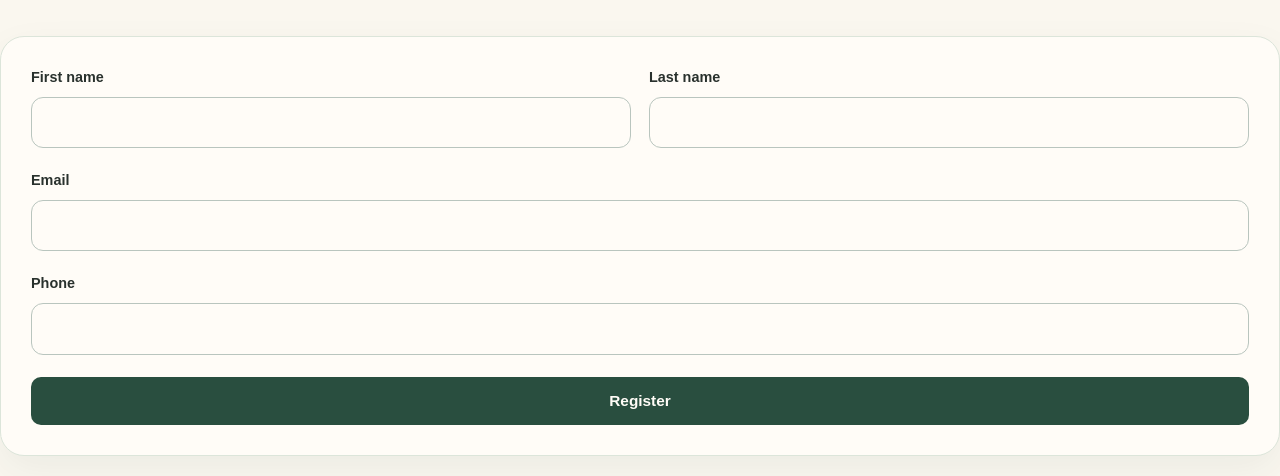
Test: PublicRegistrationForm › replaces the form with a terminal confirmation after registration
This screenshot has width=1280, height=476.
Type "Avery" into the field labelled "First name". click: [331, 122]
box: [31,97,631,148]
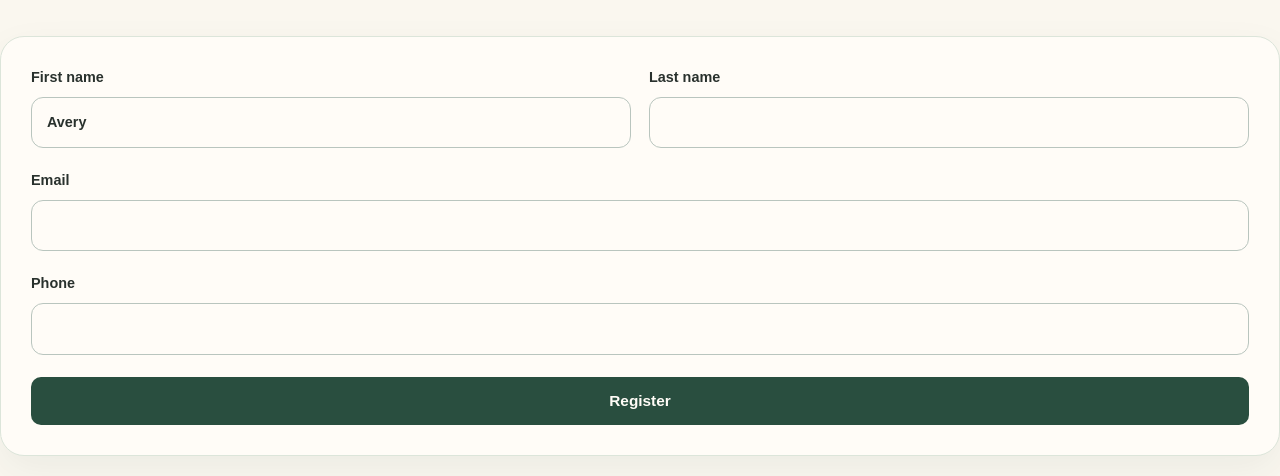
Type "Morgan" into the field labelled "Last name". click: [949, 122]
box: [649,97,1249,148]
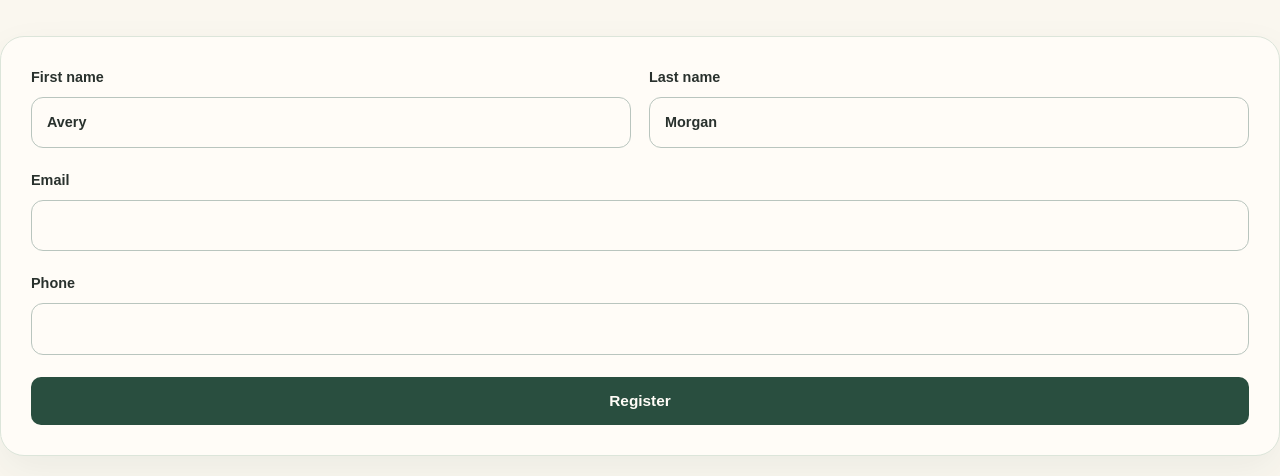
Type "avery@example.test" into the field labelled "Email". click: [640, 226]
box: [31,200,1249,251]
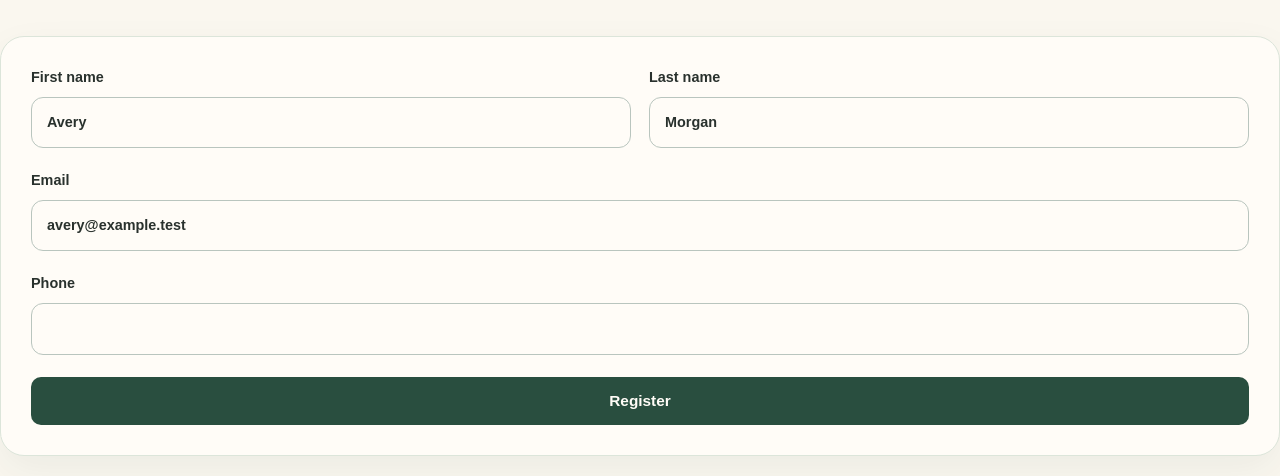
Click the button "Register". click: [640, 401]
box: [31,377,1249,425]
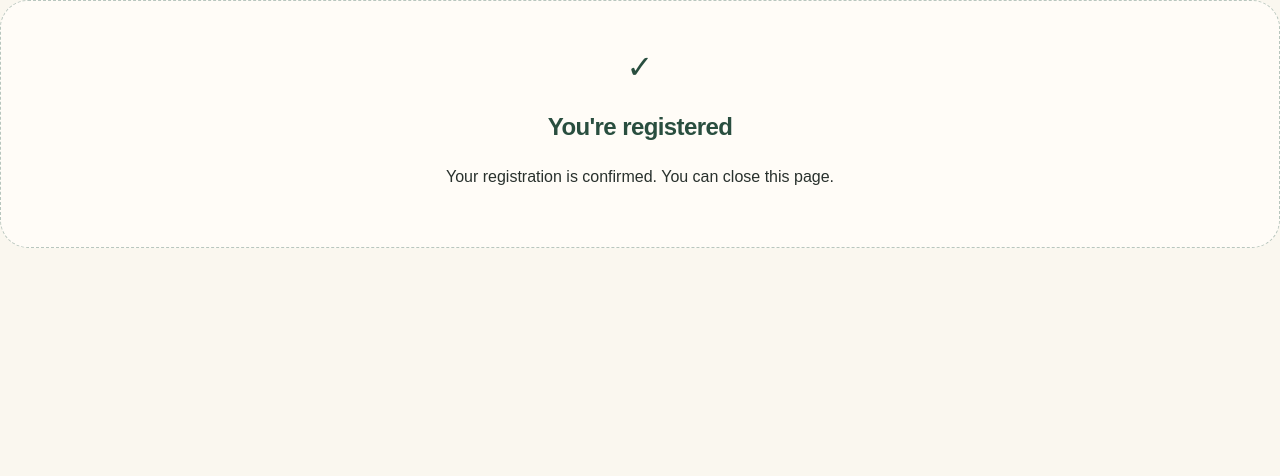
Now the heading "You're registered" is shown, box [548,113,732,140]
